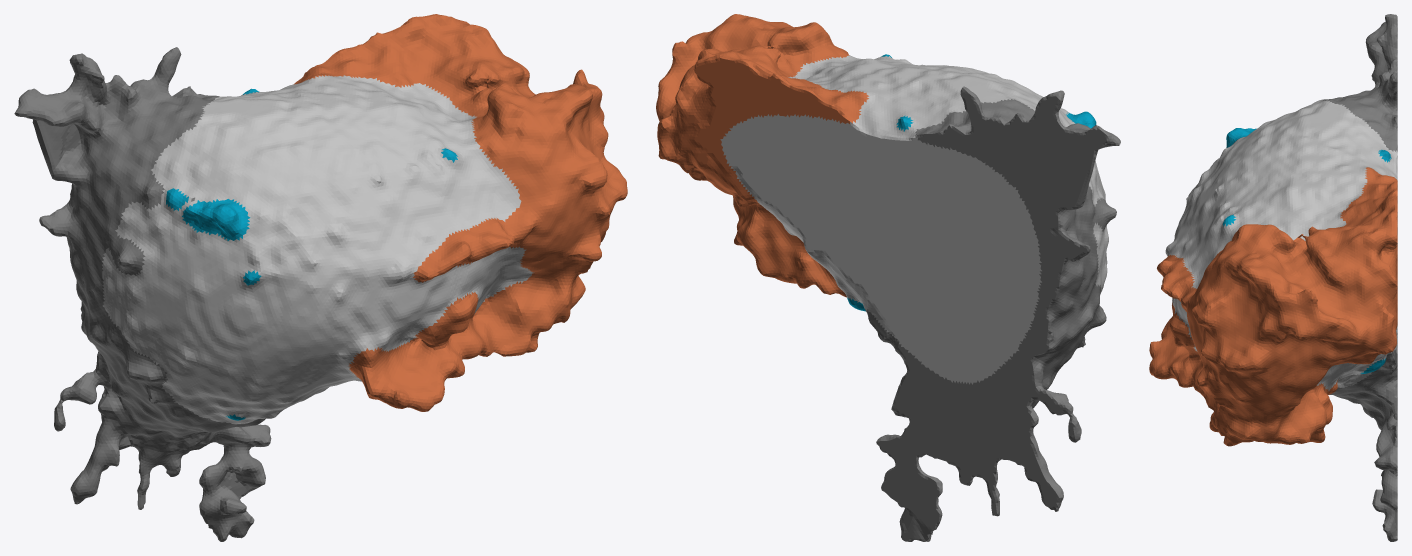
3 renders of one model, left to right at view 1: azimuth 30°, elevation 25°; view 2: azimuth 150°, elevation 25°; view 3: azimuth 270°, elevation 25°, orthographic. The views are drawn at different scales.
Bounding box in the file's own units: 149 × 139 × 68.31.
